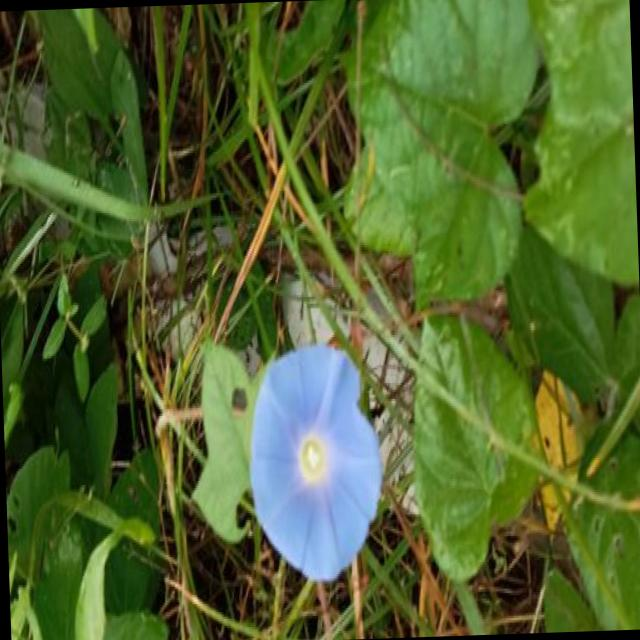ipomoea: (242, 334, 390, 588)
